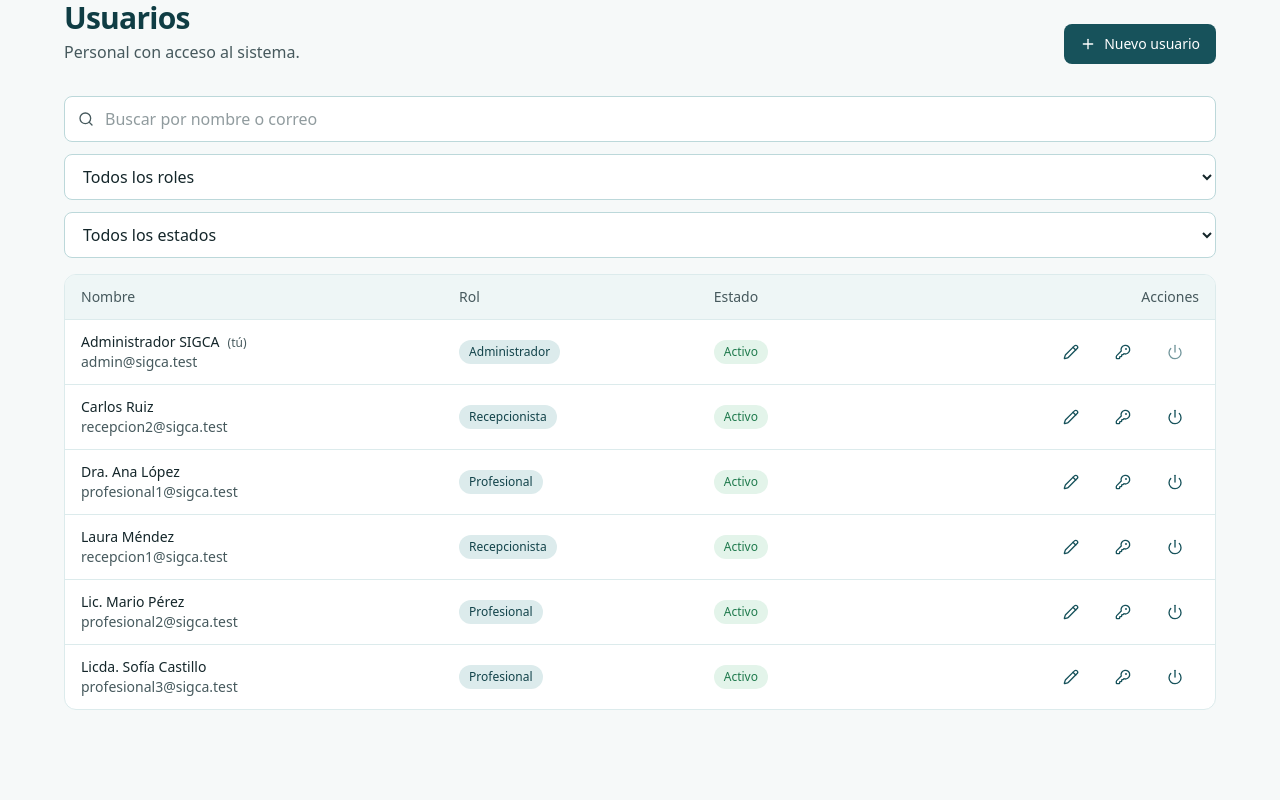
Test case: Usuarios › desactivar: al confirmar envía activo=false y avisa
The width and height of the screenshot is (1280, 800).
What coordinates should you click on to do the following:
click the button named "Desactivar a Laura Méndez"
I would click on:
 (1175, 547)
Its box is x1=1151 y1=529 x2=1199 y2=565.
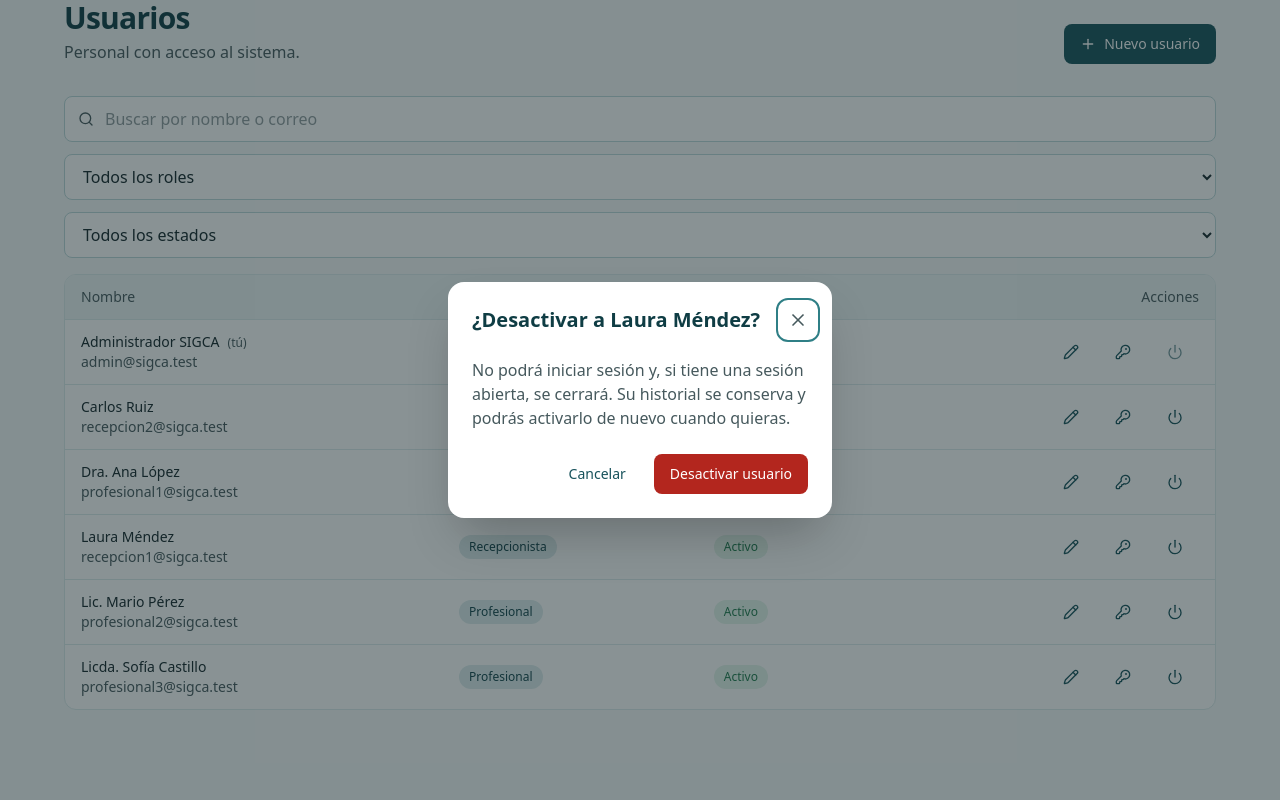
What coordinates should you click on to do the following:
click the button "Desactivar usuario"
I would click on:
 (731, 474)
Its box is x1=654 y1=454 x2=808 y2=494.
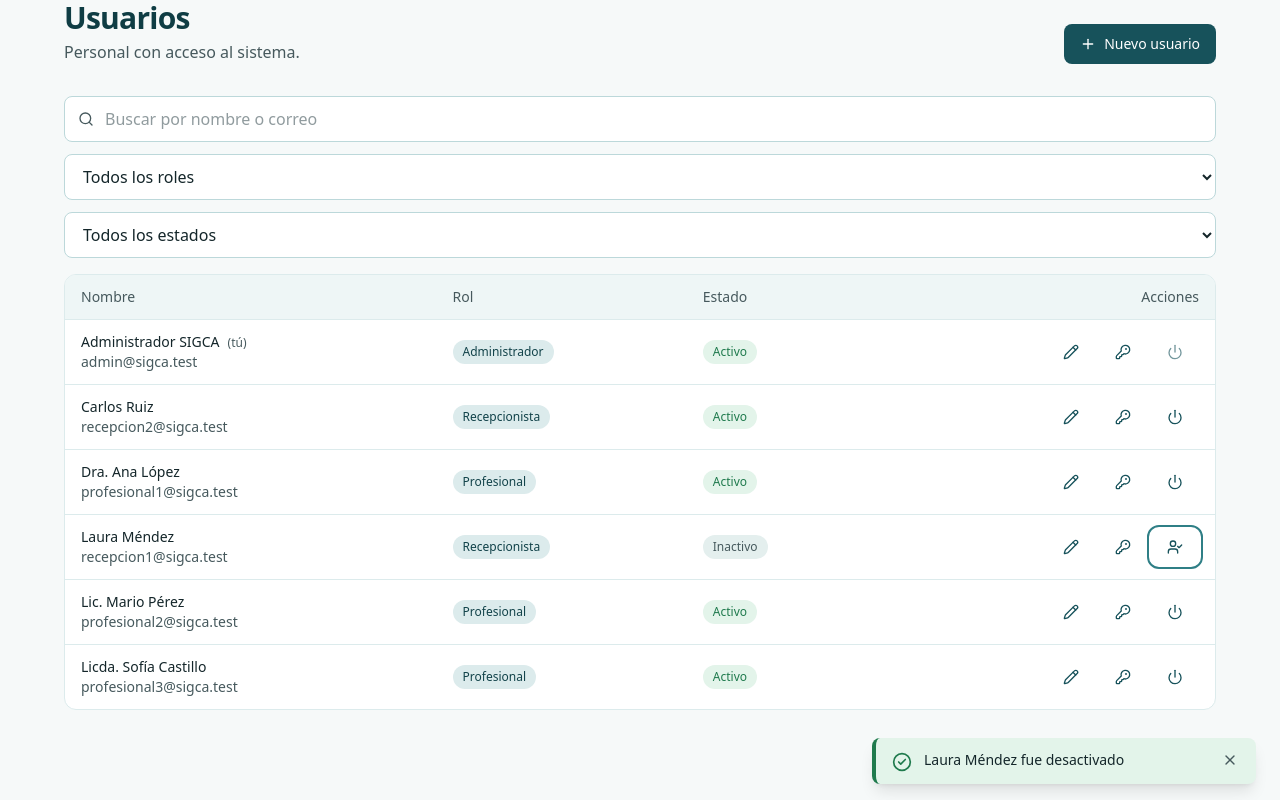
Expected: the button named "Activar a Laura Méndez" is shown, x1=1151 y1=529 x2=1199 y2=565
Expected: the text "Laura Méndez fue desactivado" is shown, x1=924 y1=750 x2=1124 y2=769
Expected: the text "Inactivo" is shown, x1=703 y1=535 x2=768 y2=559
